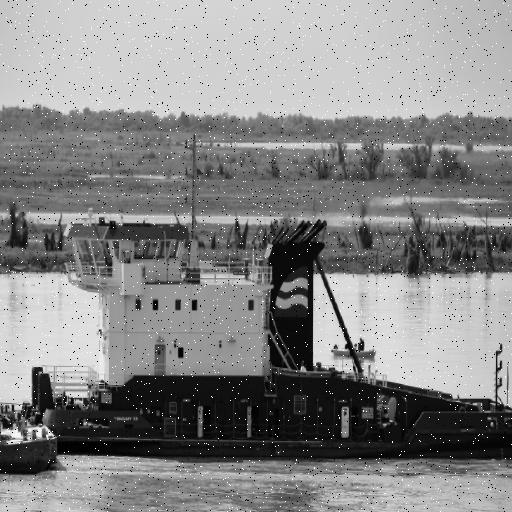tugboat: (29, 130, 512, 474)
